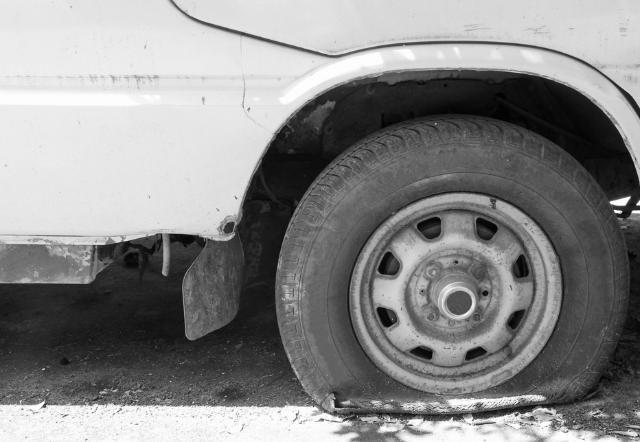Bumper: (0, 36, 283, 142)
